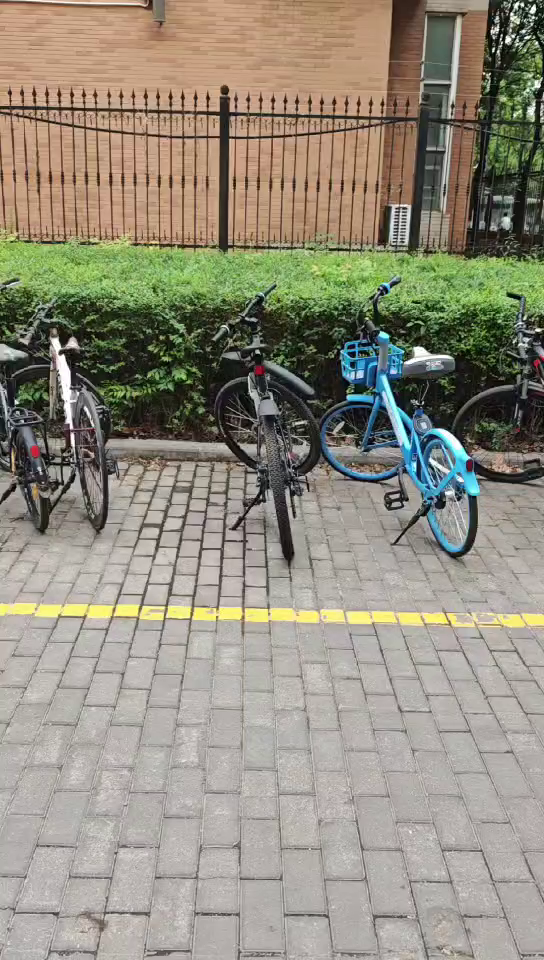others: (193, 284, 312, 556), (40, 293, 142, 532), (474, 282, 544, 522), (1, 274, 46, 541)
shared_bike_haluo: (332, 267, 491, 562)
